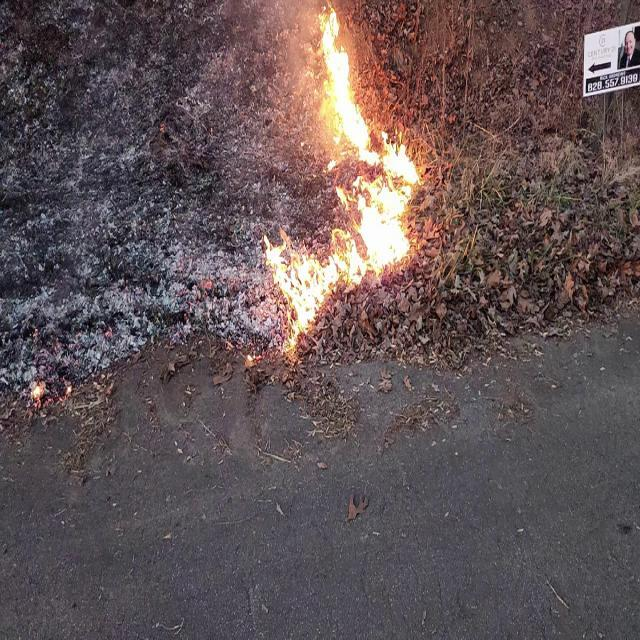Fire: (258, 135, 437, 330), (316, 0, 382, 160)
